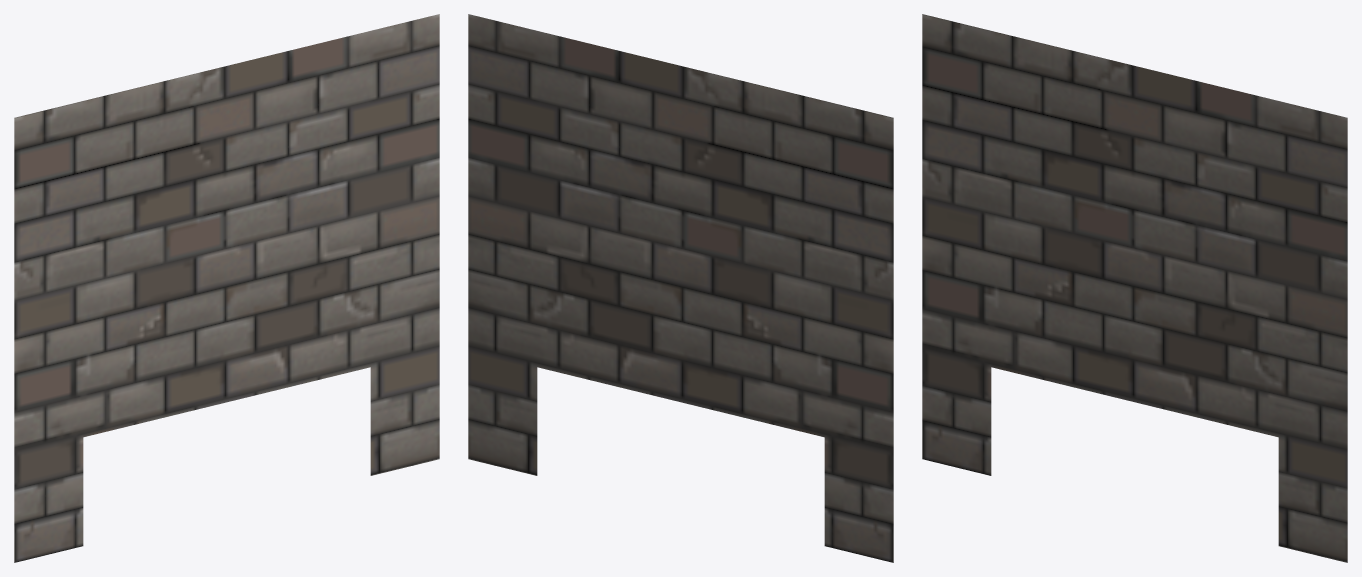
The model's file is wallBossgate.fbx.
3 renders of one model, left to right at view 1: azimuth 30°, elevation 25°; view 2: azimuth 150°, elevation 25°; view 3: azimuth 330°, elevation 25°, orthographic.
Parts seen in each view (by area): view 1: pPlane2; view 2: pPlane2; view 3: pPlane2.
Part boxes in pixels (<box>): pPlane2: <box>14,14,439,562</box>; pPlane2: <box>468,14,893,562</box>; pPlane2: <box>922,14,1347,562</box>.
Size of the model in its own units: 1000 by 1000 by 0.000182.
